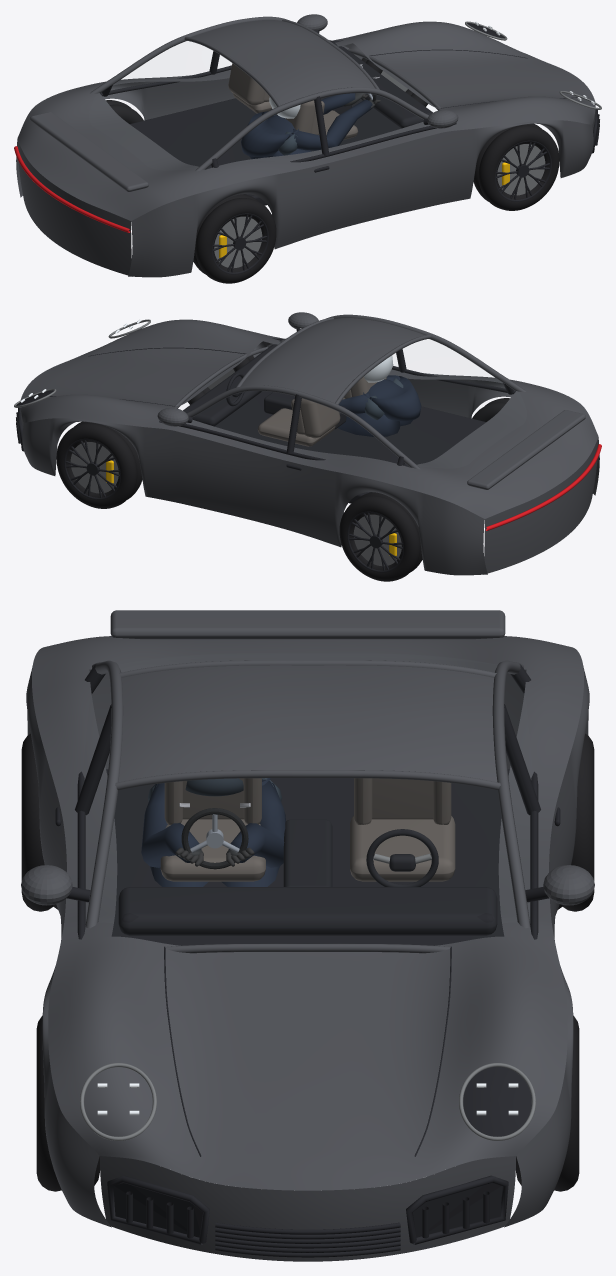
Rendered from porsche-911.glb.
The picture shows the model from 3 angles, top to bottom: view 1: azimuth 30°, elevation 25°; view 2: azimuth 150°, elevation 25°; view 3: azimuth 270°, elevation 25°; orthographic projection. The views are drawn at different scales.
Parts seen in each view (by area): view 1: Aleta y puerta.001, Carroceria, Carroceria.003, Cubierta coupe.001, Suelo interior, Paragolpes.001, Carroceria.002, Aleta y puerta, Neumatico.007, Neumatico.005, Aleron trasero, Marco superior.001 (+23 smaller); view 2: Aleta y puerta, Carroceria, Carroceria.003, Cubierta coupe.001, Suelo interior, Paragolpes.001, Carroceria.001, Neumatico.002, Neumatico, Aleta y puerta.001, Aleron trasero, HorizonPilotV14_one_piece_torso (+25 smaller); view 3: Carroceria, Cubierta coupe.001, Tablero, Suelo interior, Paragolpes, Carroceria.003, Aleron trasero, Carroceria.001, Carroceria.002, Aleta y puerta, Aleta y puerta.001, Banqueta (+39 smaller).
Boxes of the visible parts, bbox=[...] form: Aleta y puerta.001: bbox=[128, 120, 593, 277]; Carroceria: bbox=[341, 21, 595, 129]; Carroceria.003: bbox=[17, 86, 219, 220]; Cubierta coupe.001: bbox=[191, 20, 375, 105]; Suelo interior: bbox=[130, 98, 401, 205]; Paragolpes.001: bbox=[17, 139, 131, 275]; Carroceria.002: bbox=[205, 121, 463, 187]; Aleta y puerta: bbox=[16, 43, 362, 197]; Neumatico.007: bbox=[195, 198, 276, 283]; Neumatico.005: bbox=[478, 125, 559, 210]; Aleron trasero: bbox=[30, 112, 148, 191]; Marco superior.001: bbox=[195, 87, 428, 171]; Aleta y puerta: bbox=[22, 418, 487, 575]; Carroceria: bbox=[20, 319, 274, 427]; Carroceria.003: bbox=[396, 384, 598, 518]; Cubierta coupe.001: bbox=[240, 318, 424, 403]; Suelo interior: bbox=[214, 391, 485, 503]; Paragolpes.001: bbox=[484, 437, 598, 573]; Carroceria.001: bbox=[152, 419, 410, 485]; Neumatico.002: bbox=[339, 496, 420, 581]; Neumatico: bbox=[56, 423, 137, 508]; Aleta y puerta.001: bbox=[253, 341, 599, 495]; Aleron trasero: bbox=[467, 410, 585, 489]; HorizonPilotV14_one_piece_torso: bbox=[363, 375, 421, 421]; Carroceria: bbox=[48, 936, 567, 1190]; Cubierta coupe.001: bbox=[118, 665, 497, 781]; Tablero: bbox=[118, 887, 497, 935]; Suelo interior: bbox=[106, 769, 509, 945]; Paragolpes: bbox=[100, 1156, 515, 1261]; Carroceria.003: bbox=[32, 636, 583, 684]; Aleron trasero: bbox=[110, 610, 505, 639]; Carroceria.001: bbox=[498, 669, 583, 946]; Carroceria.002: bbox=[32, 669, 117, 946]; Aleta y puerta: bbox=[504, 666, 589, 1227]; Aleta y puerta.001: bbox=[26, 666, 111, 1227]; Banqueta: bbox=[350, 816, 455, 881].
Bounding box in the file's own units: 4.55 × 1.27 × 2.12.
